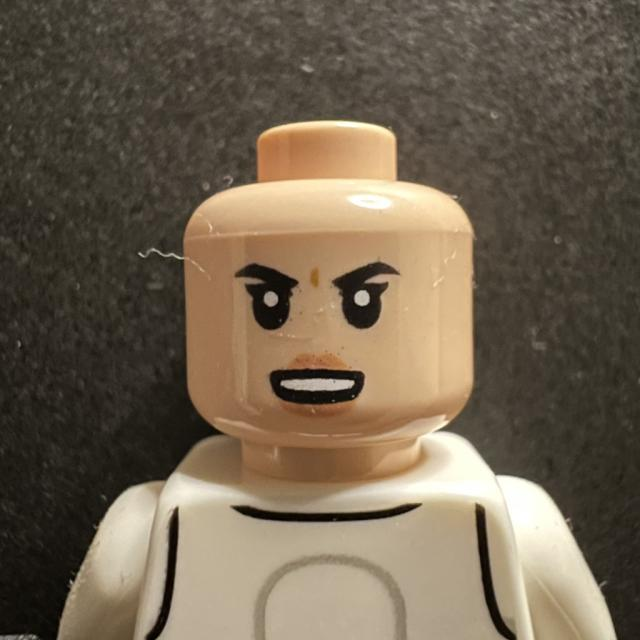lego: (182, 102, 480, 469)
